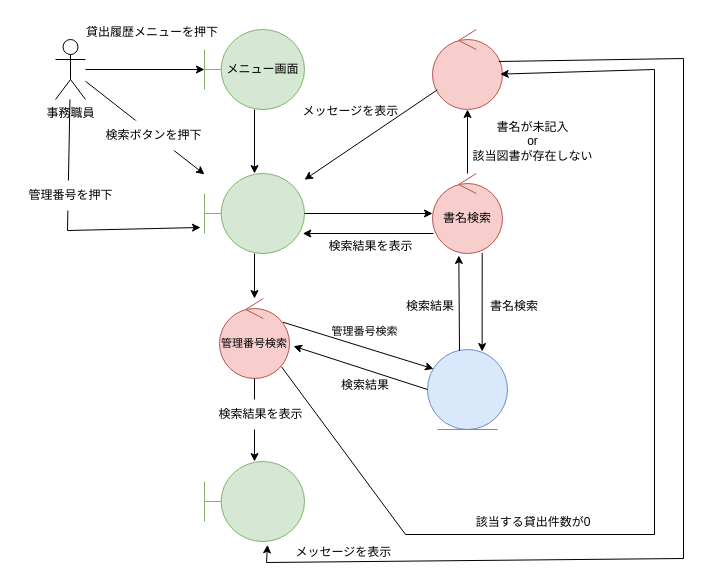
The diagram is 709 pixels wide and 588 high, and some of its shapes have lost their labels. The centre of each missing label's shape, as x and y in pixels:
DB: point 467,389
エラー処理: point 467,69
貸出履歴一覧画面: point 254,501
貸出履歴検索画面: point 254,213
